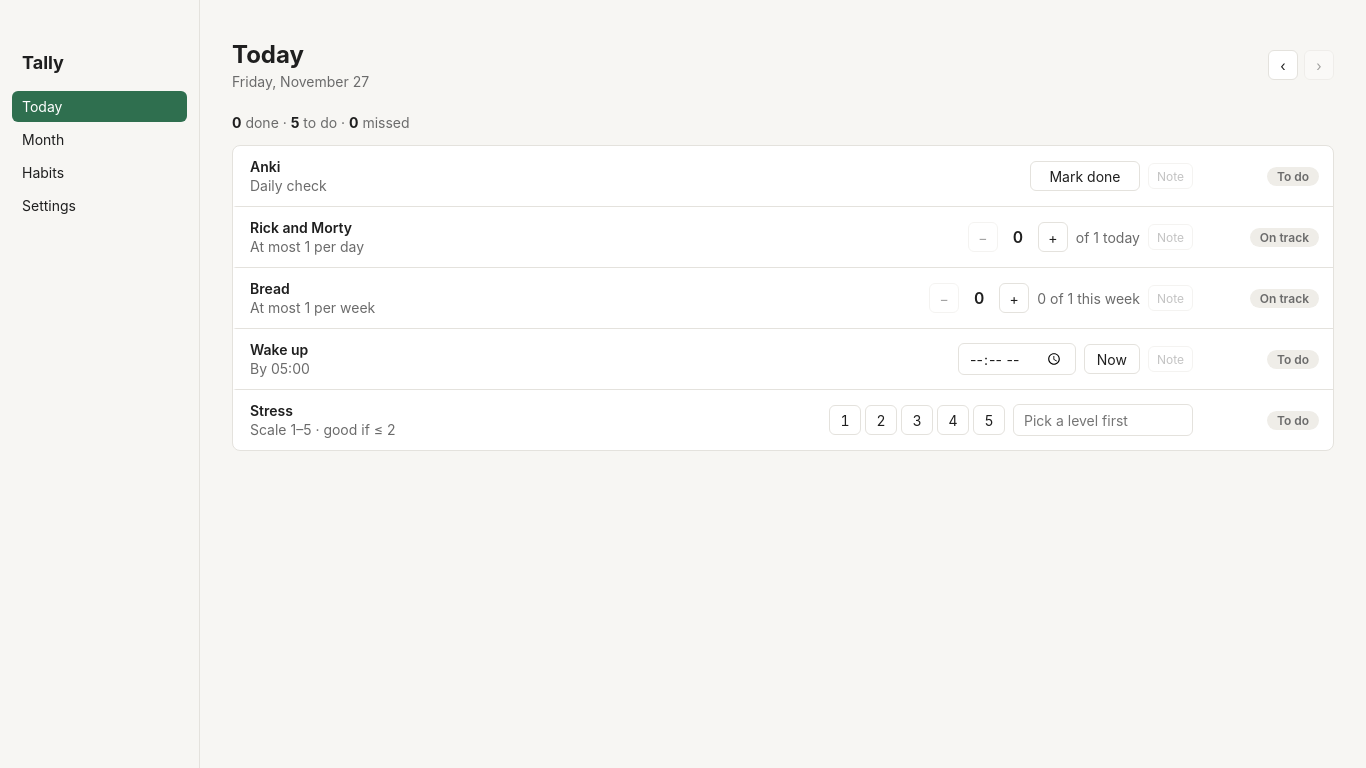
Test: TodayPage › logs a check and updates the status
Click the button with aria-label "Anki done": coordinates (1085, 176) [1030,161,1140,191]
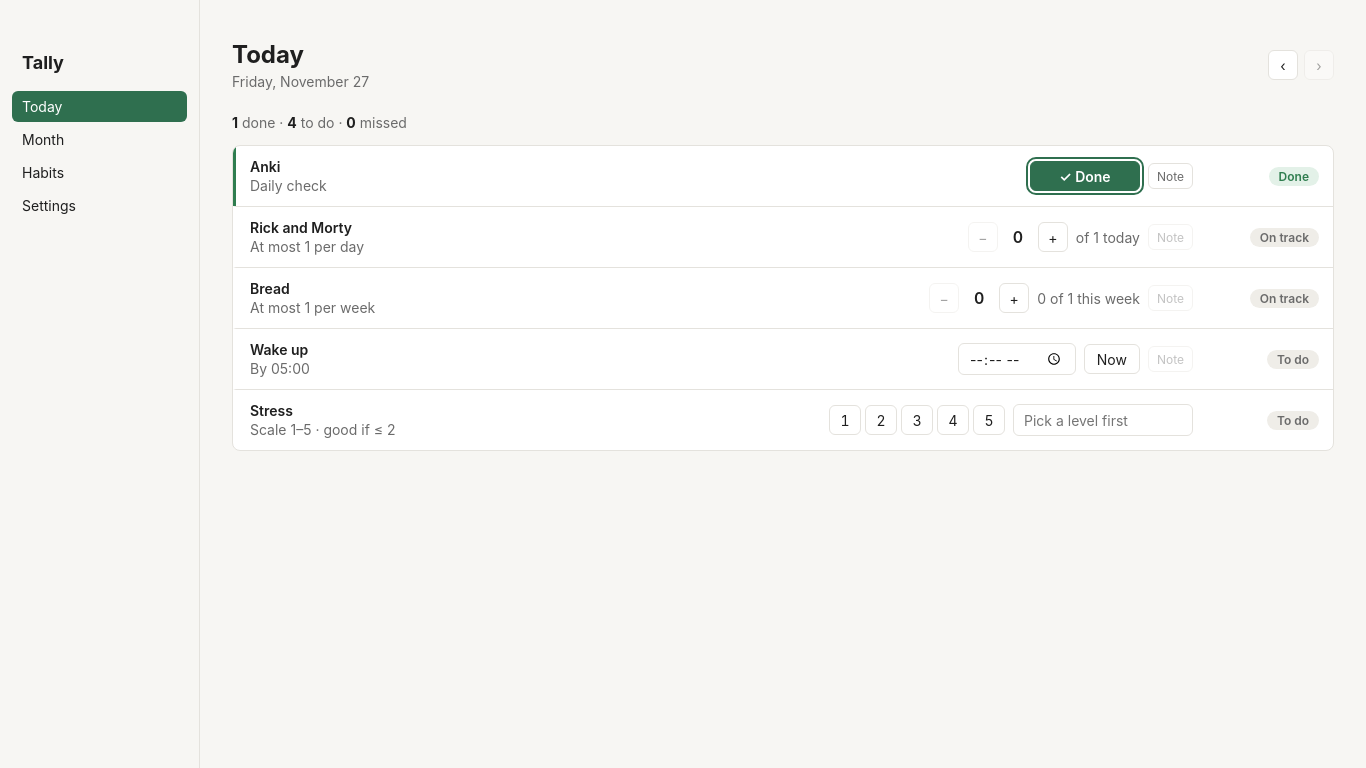
Expected: the text "Done" is shown, [1269,166,1319,186]
